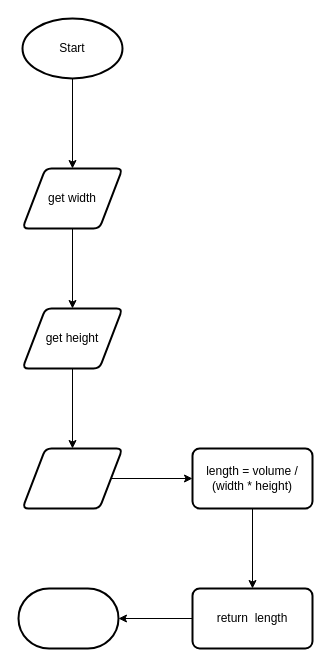
Some shapes in this 330 by 666 pixel diagram are drawn without their labels. The shapes that lost their labels are listed below. From the top down, each one's centre as x and y in pixels, then its label:
(72,478): get volume
(68,618): end
